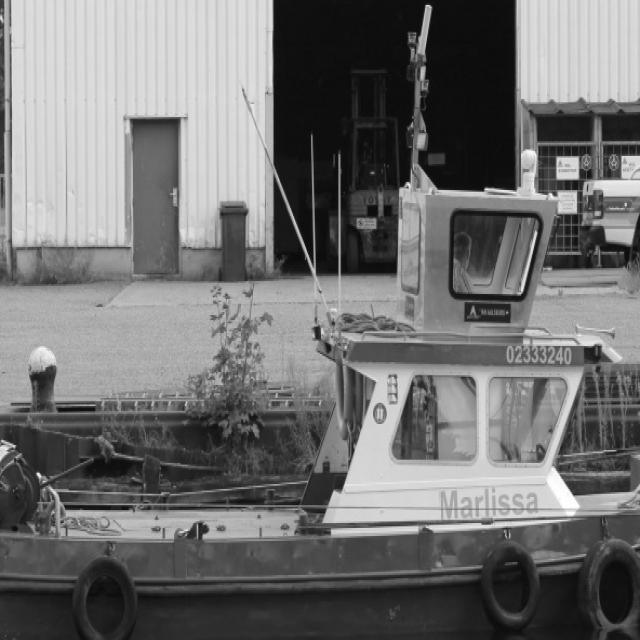tugboat: (1, 168, 640, 640)
